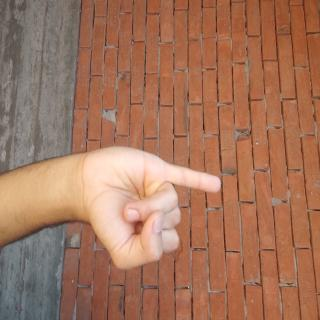MEEM: (105, 123, 206, 320)
